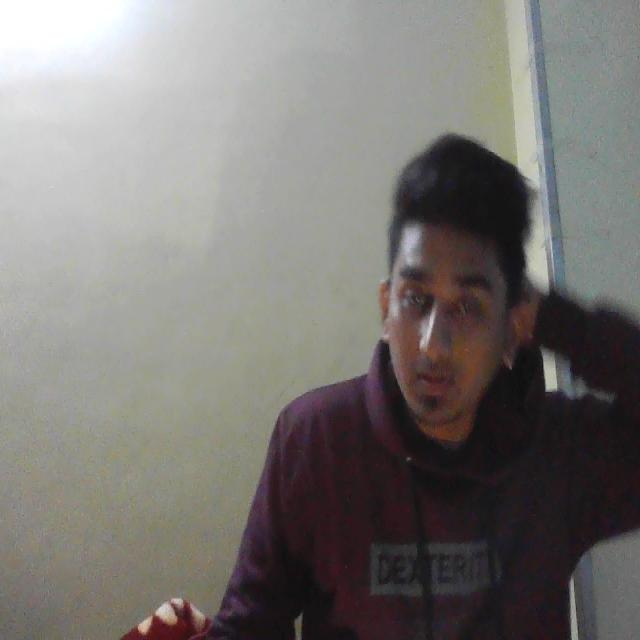real: (372, 149, 531, 451)
